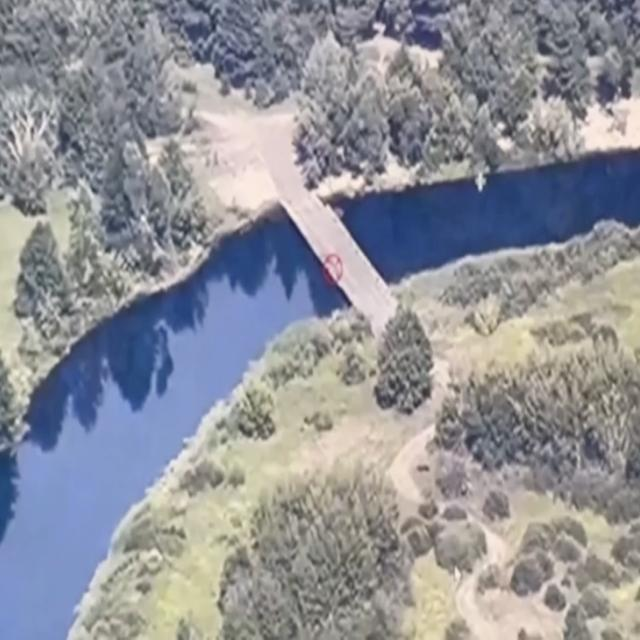fortification: (281, 198, 387, 309)
